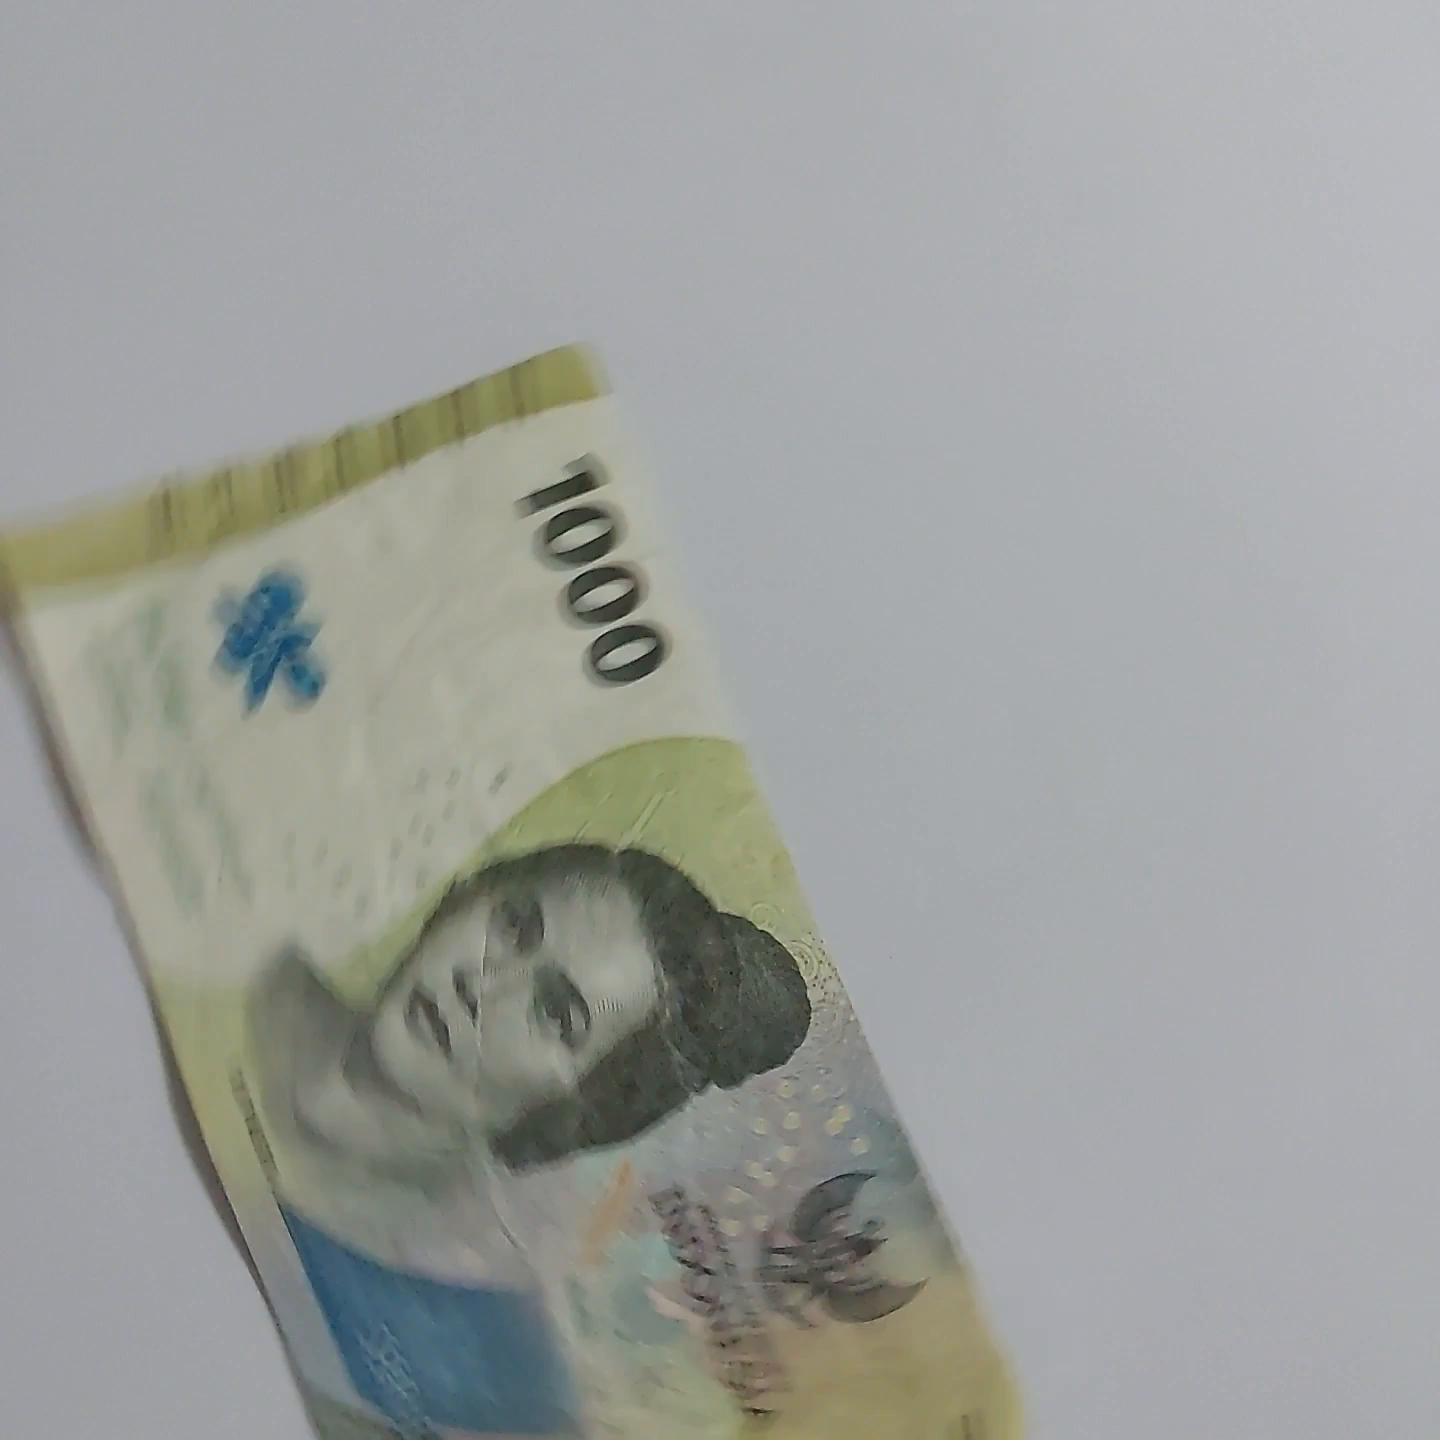1k: (0, 287, 1043, 1440)
